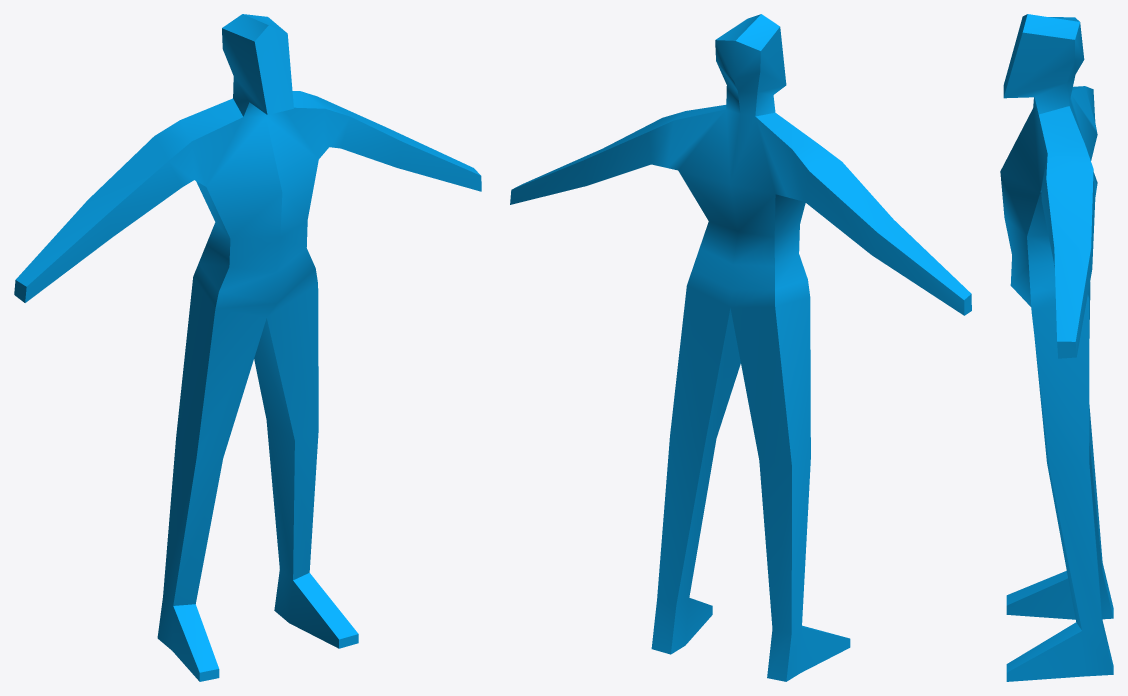
File: sizeman.glb
3 renders of one model, left to right at view 1: azimuth 30°, elevation 25°; view 2: azimuth 150°, elevation 25°; view 3: azimuth 270°, elevation 25°, orthographic.
Visible parts, largest first — view 1: Object_2; view 2: Object_2; view 3: Object_2.
Boxes of the visible parts, x1=… form: Object_2: x1=14, y1=14, x2=481, y2=681; Object_2: x1=510, y1=14, x2=971, y2=681; Object_2: x1=1000, y1=14, x2=1113, y2=681.
Size of the model in its own units: 5.81 by 7.6 by 1.24.
